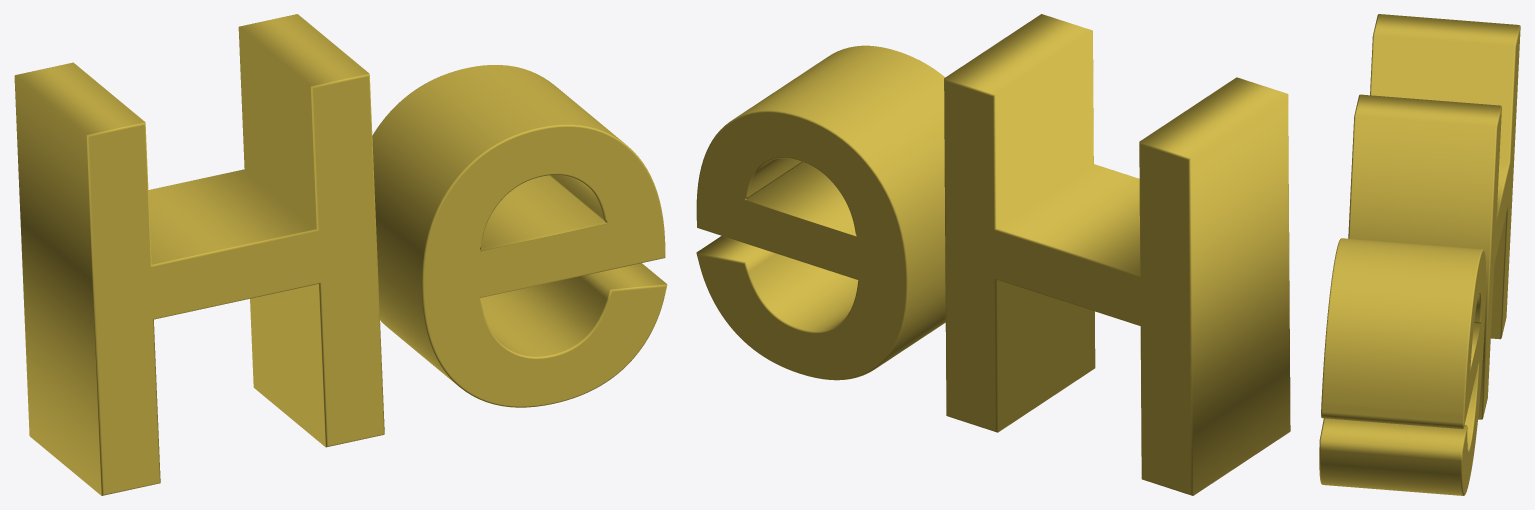
3 renders of one model, left to right at view 1: azimuth 30°, elevation 25°; view 2: azimuth 150°, elevation 25°; view 3: azimuth 270°, elevation 25°, orthographic. The views are drawn at different scales.
Parts seen in each view (by area): view 1: Text; view 2: Text; view 3: Text.
Boxes of the visible parts, x1=… form: Text: x1=14, y1=14, x2=667, y2=495; Text: x1=696, y1=14, x2=1290, y2=495; Text: x1=1319, y1=14, x2=1520, y2=495.
Size of the model in its own units: 225 by 142 by 85.87.
